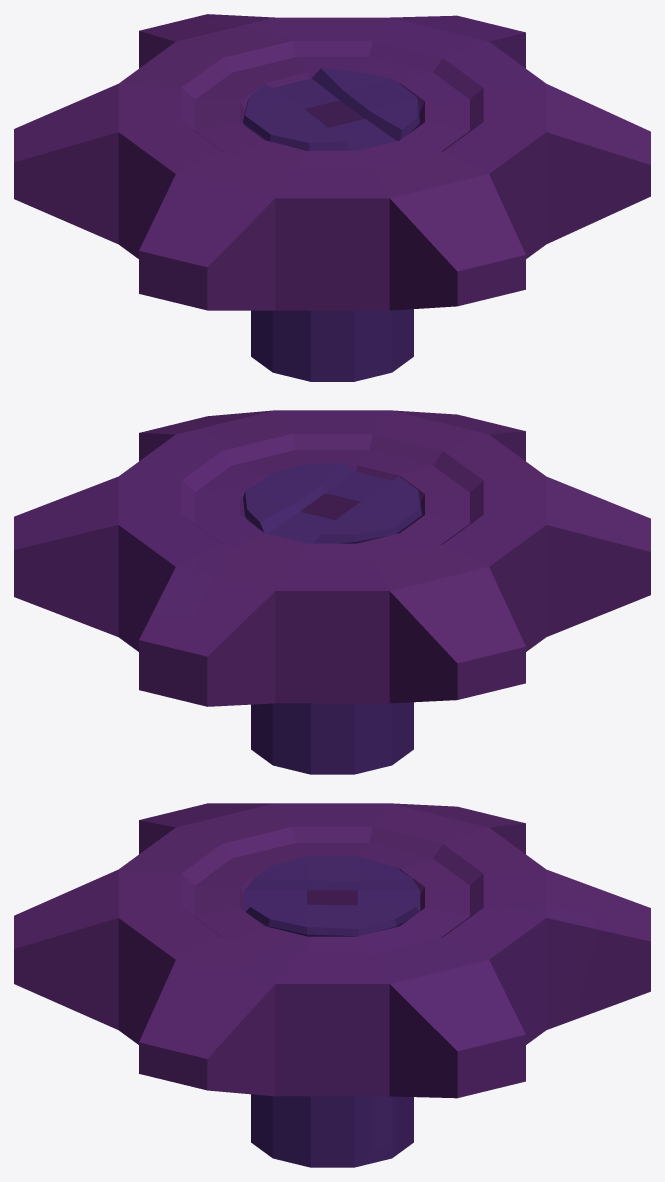
File: obj_gear07_hard.gltf
3 views of the same model, one above another, from view 1: azimuth 30°, elevation 25°; view 2: azimuth 150°, elevation 25°; view 3: azimuth 270°, elevation 25° (orthographic).
Parts seen in each view (by area): view 1: obj_gear07_hard; view 2: obj_gear07_hard; view 3: obj_gear07_hard.
Part boxes in pixels (bbox=[...]): obj_gear07_hard: bbox=[14, 14, 650, 381]; obj_gear07_hard: bbox=[14, 410, 650, 774]; obj_gear07_hard: bbox=[14, 803, 650, 1167].
Size of what is drawn, in the model's own units: 0.3121 by 0.1413 by 0.3363.
Materials: 1 (1 with a texture image).
